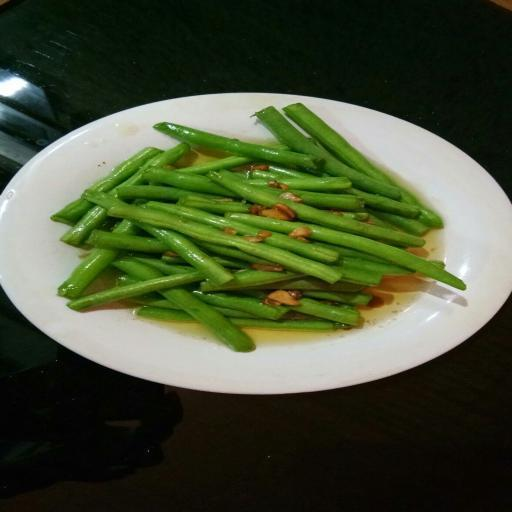buncis_rebus: (59, 98, 492, 364)
